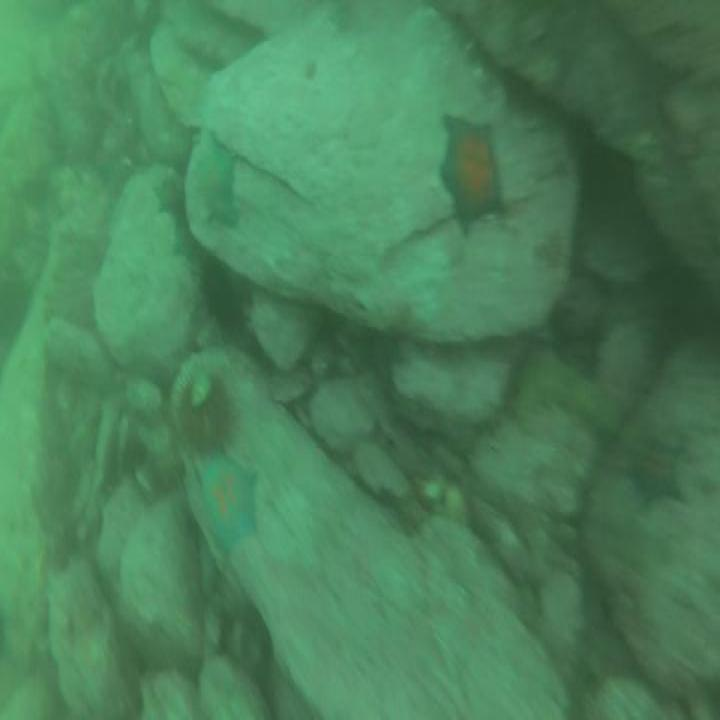echinus: (194, 254, 245, 338)
holothurian: (509, 336, 621, 441)
starfish: (435, 107, 507, 238), (193, 450, 261, 576), (624, 422, 687, 518), (199, 142, 237, 236), (167, 210, 201, 265), (150, 170, 188, 218)
